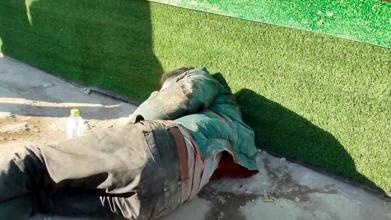falling: (0, 37, 261, 220)
